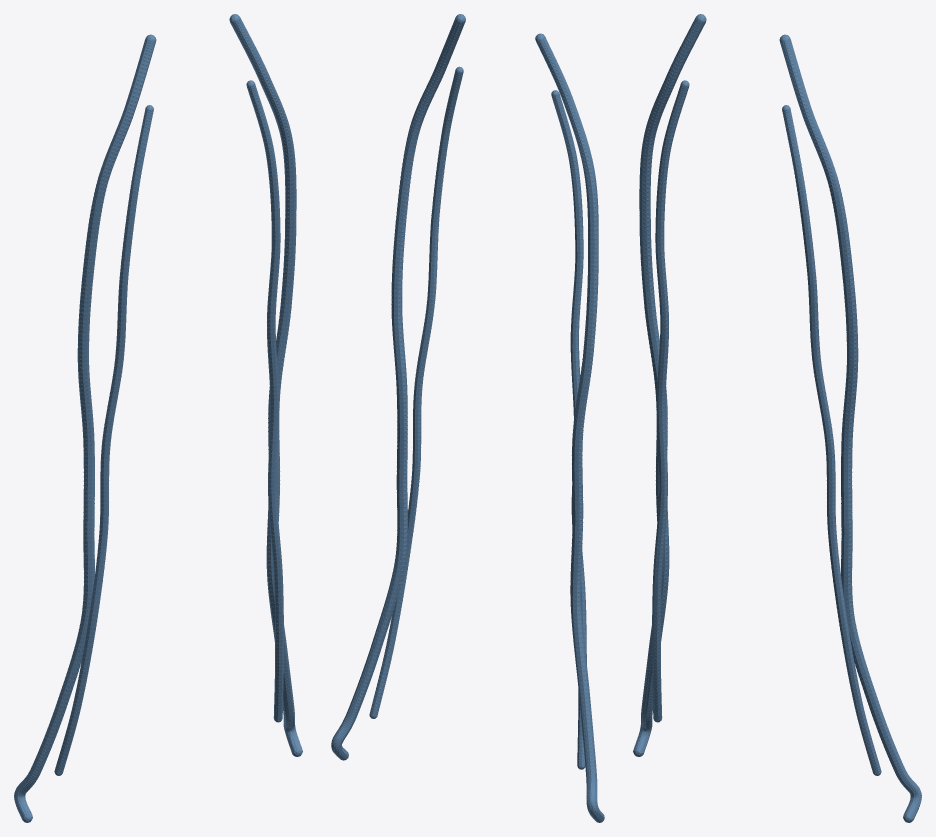
The model's file is leg_veins.glb.
The picture shows the model from 3 angles, left to right: view 1: azimuth 30°, elevation 25°; view 2: azimuth 150°, elevation 25°; view 3: azimuth 330°, elevation 25°; orthographic projection. The views are drawn at different scales.
Visible parts, largest first — view 1: leg_veins; view 2: leg_veins; view 3: leg_veins.
Part boxes in pixels (<box>): leg_veins: <box>14,14,302,822</box>; leg_veins: <box>331,14,604,822</box>; leg_veins: <box>633,14,921,822</box>.
Size of the model in its own units: 0.3333 by 0.8918 by 0.1085.
